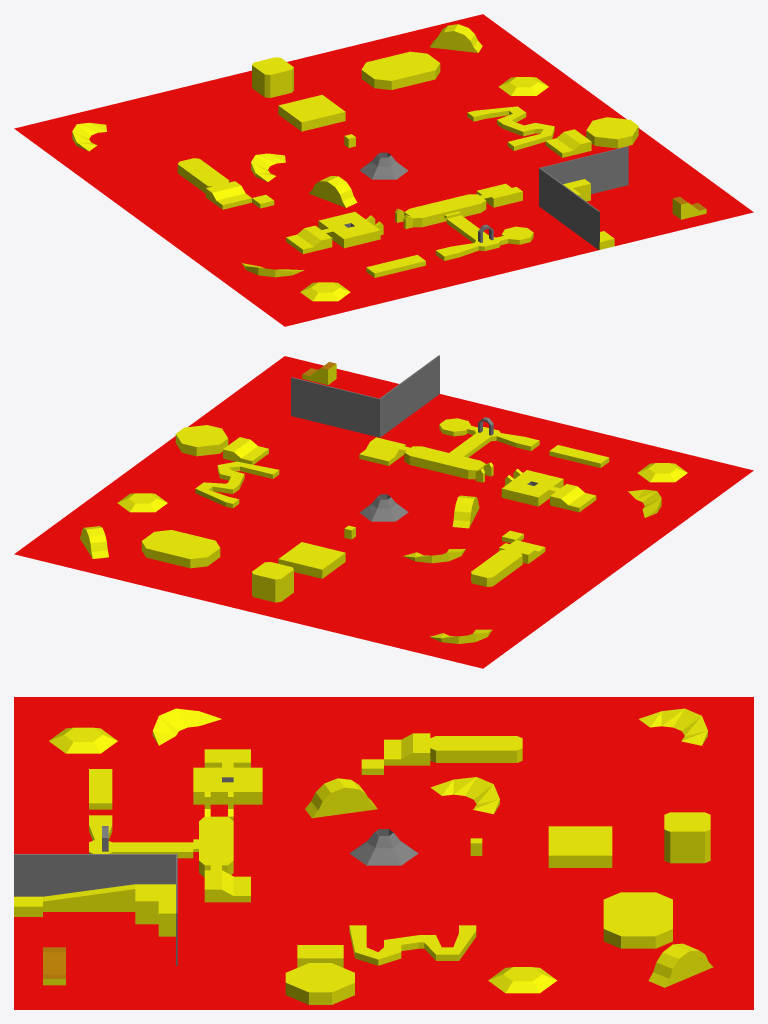
Rendered from lll_segment7.0x1ADE8.collision.obj.
The picture shows the model from 3 angles, top to bottom: view 1: azimuth 30°, elevation 25°; view 2: azimuth 150°, elevation 25°; view 3: azimuth 270°, elevation 25°; orthographic projection. The views are drawn at different scales.
Parts seen in each view (by area): view 1: lll_segment7_1ADE8_lethal_lava, lll_segment7_1ADE8_normal, lll_segment7_1ADE8_wall; view 2: lll_segment7_1ADE8_lethal_lava, lll_segment7_1ADE8_normal, lll_segment7_1ADE8_wall; view 3: lll_segment7_1ADE8_lethal_lava, lll_segment7_1ADE8_normal, lll_segment7_1ADE8_wall, lll_segment7_1ADE8_climbable.
Part boxes in pixels (x1,y1,x2,y2): lll_segment7_1ADE8_lethal_lava: (14,14,753,326); lll_segment7_1ADE8_normal: (72,24,706,301); lll_segment7_1ADE8_wall: (344,146,628,249); lll_segment7_1ADE8_lethal_lava: (14,356,753,668); lll_segment7_1ADE8_normal: (79,364,687,643); lll_segment7_1ADE8_wall: (291,355,537,521); lll_segment7_1ADE8_lethal_lava: (14,697,753,1009); lll_segment7_1ADE8_normal: (14,708,713,1004); lll_segment7_1ADE8_wall: (14,777,418,965); lll_segment7_1ADE8_climbable: (43,947,65,978).
Bounding box in the file's own units: 16 × 1.25 × 16.
